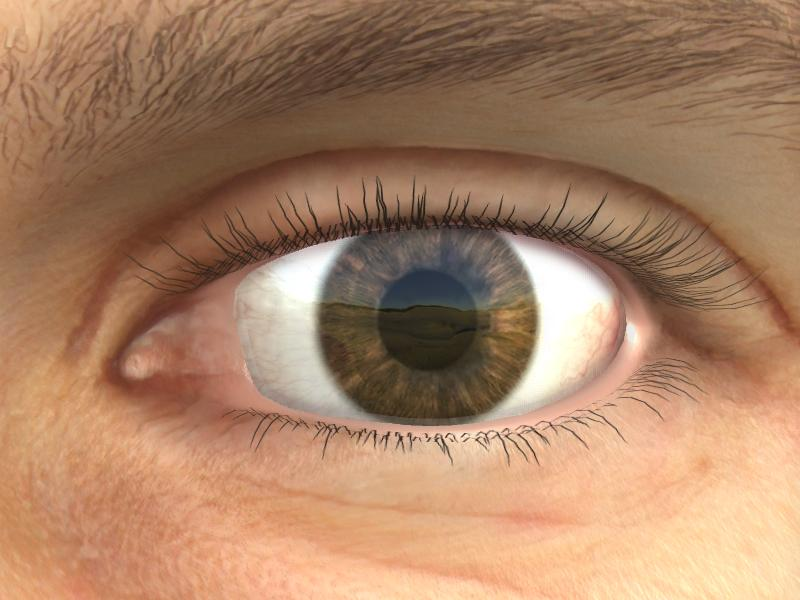eye: (313, 221, 542, 427)
